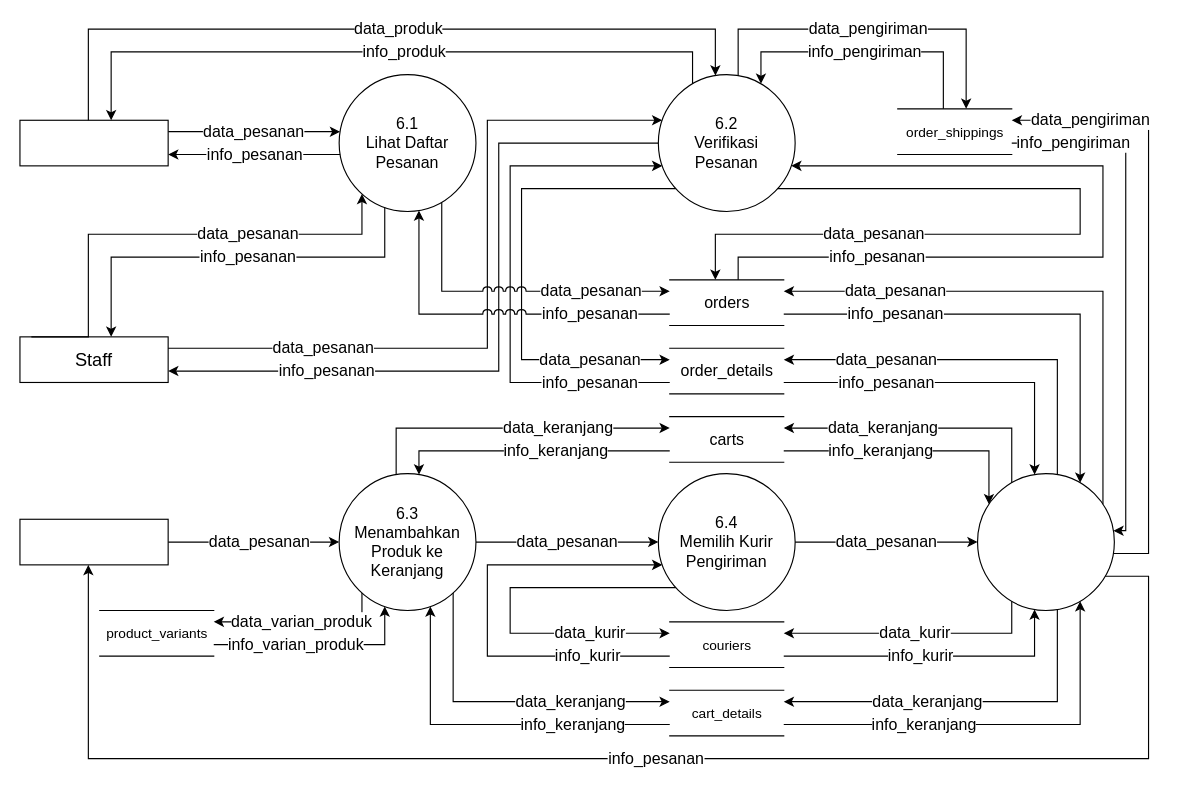
The diagram is 1178 pixels wide and 788 high, and some of its shapes have lost their labels. Here are the shapes that lost their labels. From the top down, the box of each, then its label:
(19, 119, 168, 166): Admin
(19, 518, 168, 565): Reseller
(976, 473, 1114, 610): 6.5 Mengajukan Pesanan
